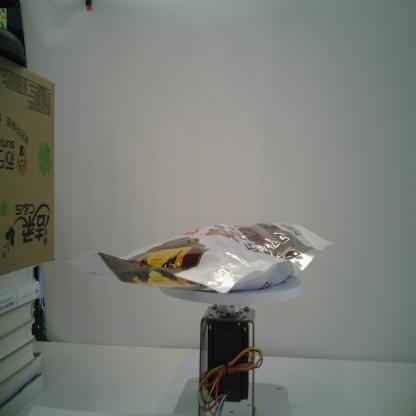Dried Food: (63, 216, 338, 298)
